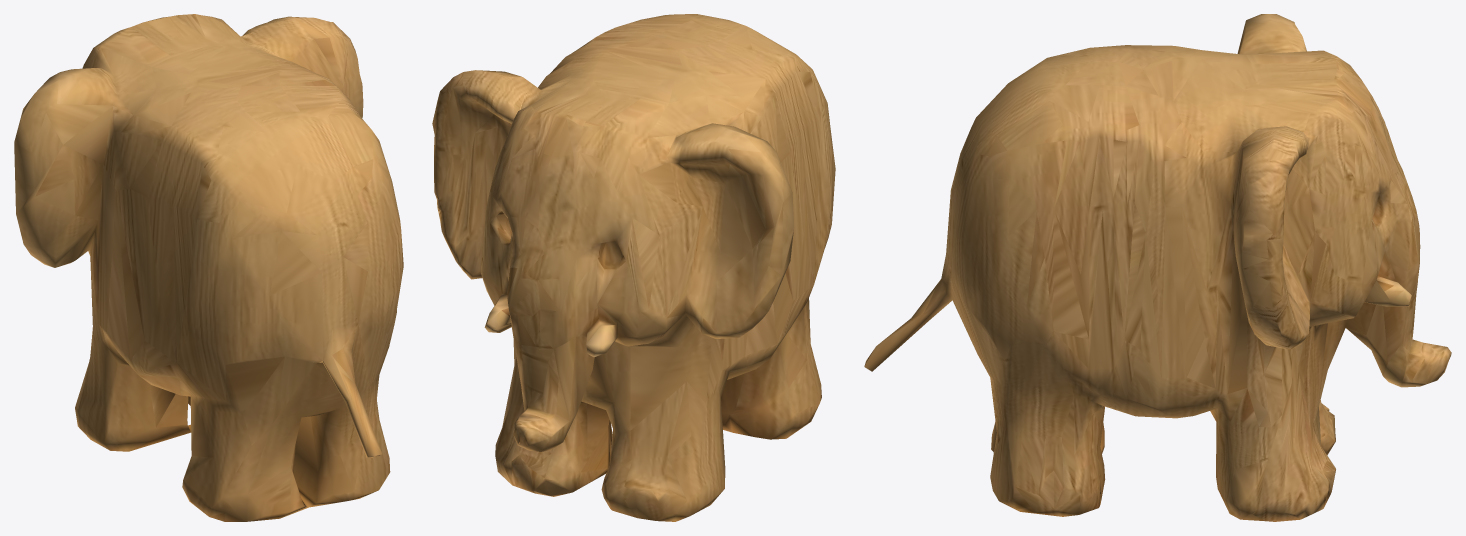
Rendered from elephant.glb.
The picture shows the model from 3 angles, left to right: view 1: azimuth 30°, elevation 25°; view 2: azimuth 150°, elevation 25°; view 3: azimuth 270°, elevation 25°; orthographic projection. The views are drawn at different scales.
Parts seen in each view (by area): view 1: animal_elephant; view 2: animal_elephant; view 3: animal_elephant.
Boxes of the visible parts, x1,y1,x2,y2 form: animal_elephant: (14, 14, 403, 521); animal_elephant: (432, 14, 835, 521); animal_elephant: (864, 14, 1451, 521).
Size of the model in its own units: 0.0427 by 0.0454 by 0.06.
Materials: 1 (1 with a texture image).
